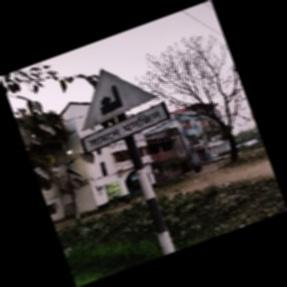Mosque in front: (77, 59, 175, 163)
